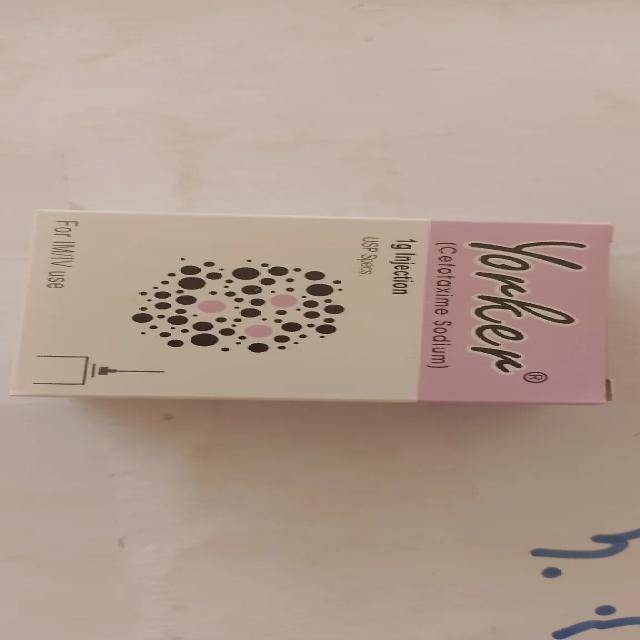drug-name: (467, 231, 596, 397)
